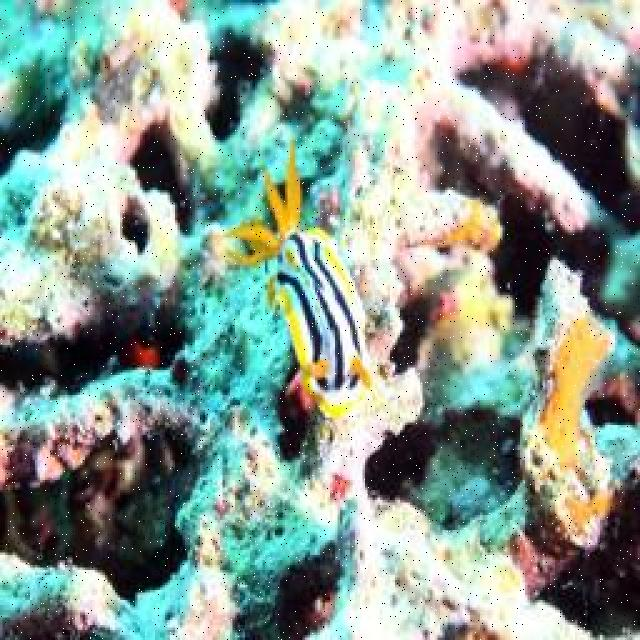fish: (226, 144, 376, 415)
reefs: (0, 0, 638, 638)
